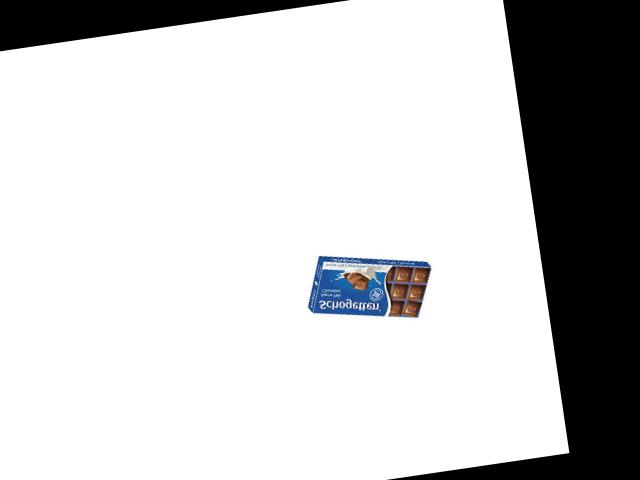chocolate: (300, 250, 439, 333)
